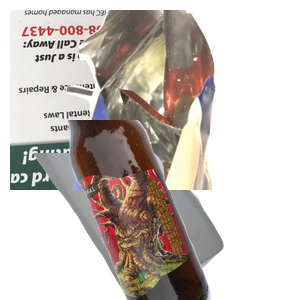glass: (65, 120, 300, 300)
paper: (10, 10, 201, 190)
plastic: (29, 153, 245, 300)
trash: (63, 10, 300, 190)
